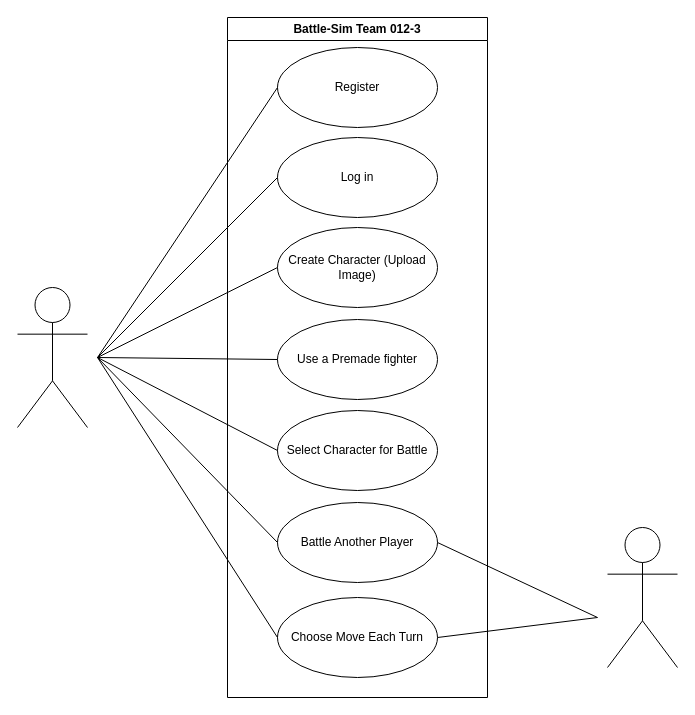
The diagram is 695 pixels wide and 715 high, and some of its shapes have lost their labels. The centre of each missing label's shape, as x and y in pixels:
"Opponent" belongs at [642,597].
"Player" belongs at [52,357].
